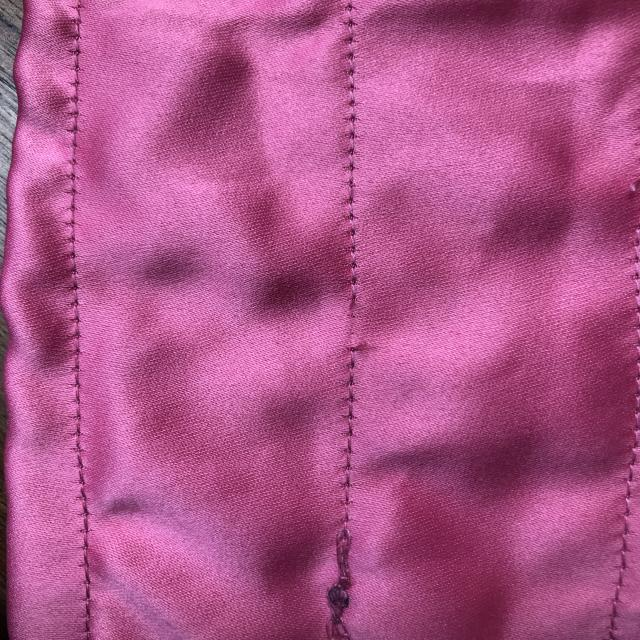broken: (331, 268, 390, 356)
